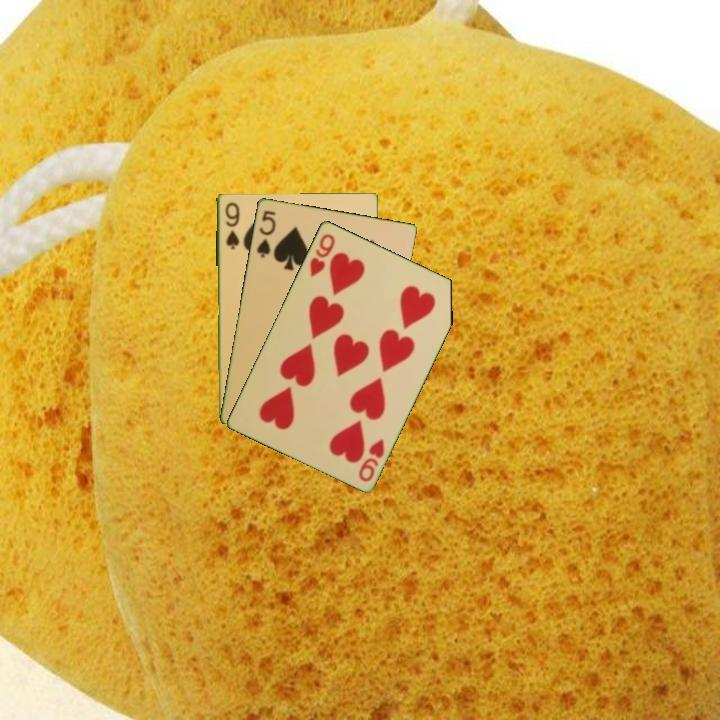5s: (253, 206, 278, 260)
9h: (355, 434, 387, 484), (306, 230, 338, 279)
9s: (221, 199, 242, 252)
